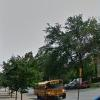Tree: (36, 10, 100, 76)
